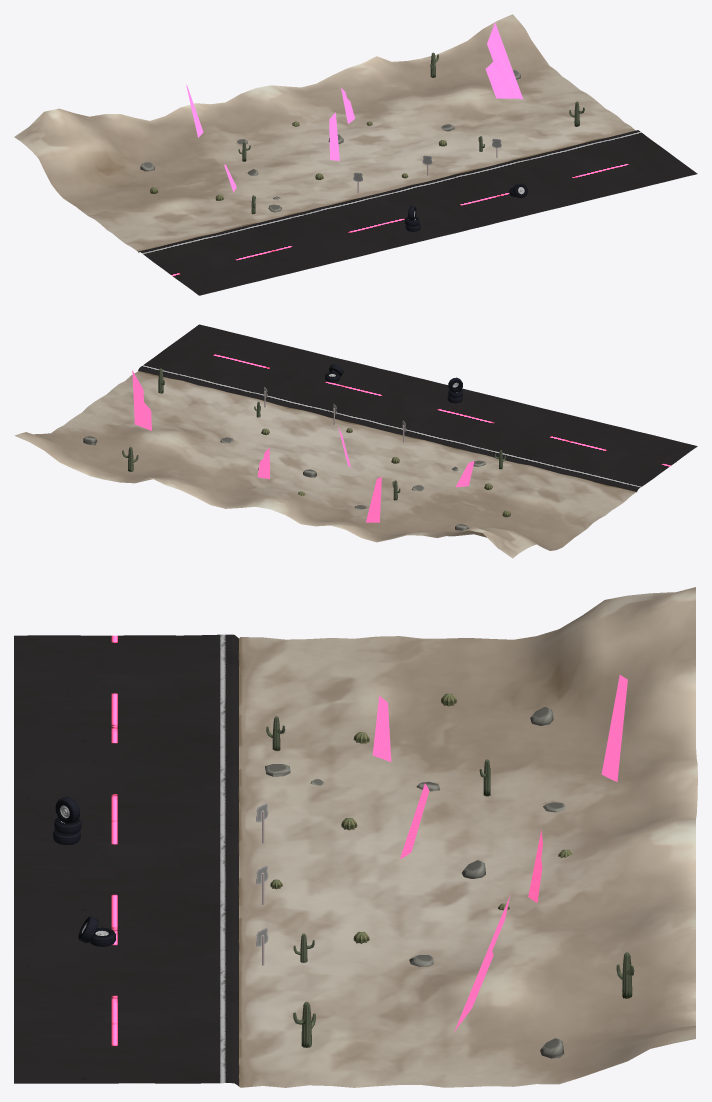
Rendered from StageSelect_Stage02_Desert.fbx.
3 views of the same model, one above another, from view 1: azimuth 30°, elevation 25°; view 2: azimuth 150°, elevation 25°; view 3: azimuth 270°, elevation 25° (orthographic). The views are drawn at different scales.
Parts seen in each view (by area): view 1: Stage02_Desert; view 2: Stage02_Desert; view 3: Stage02_Desert.
Part boxes in pixels (bbox=[...]): Stage02_Desert: bbox=[14, 14, 697, 295]; Stage02_Desert: bbox=[14, 324, 697, 558]; Stage02_Desert: bbox=[14, 587, 697, 1087].
Bounding box in the file's own units: 555 × 358 × 83.49.
